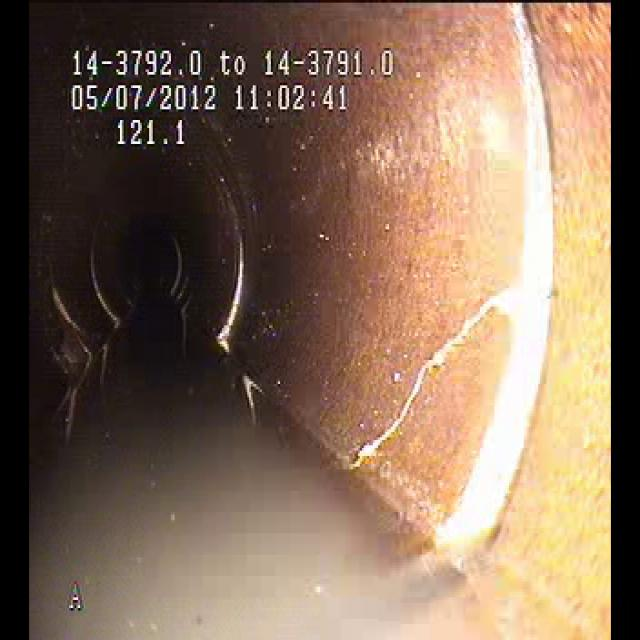Crack: (357, 273, 521, 462)
